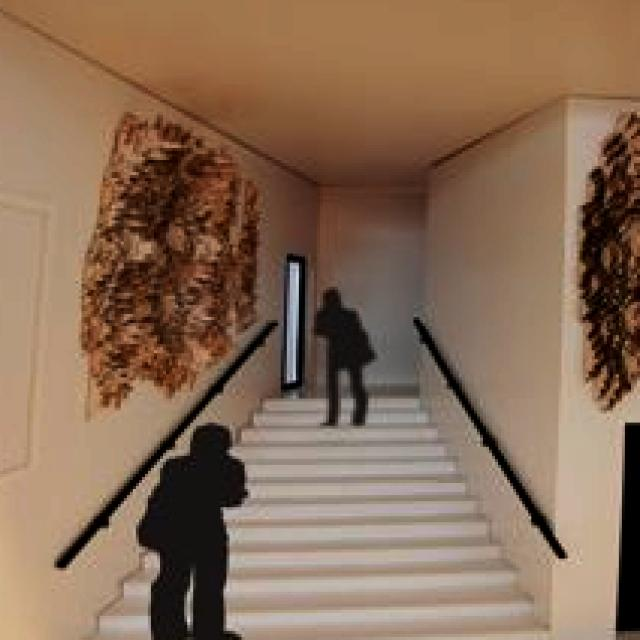upstair: (128, 559, 517, 640)
